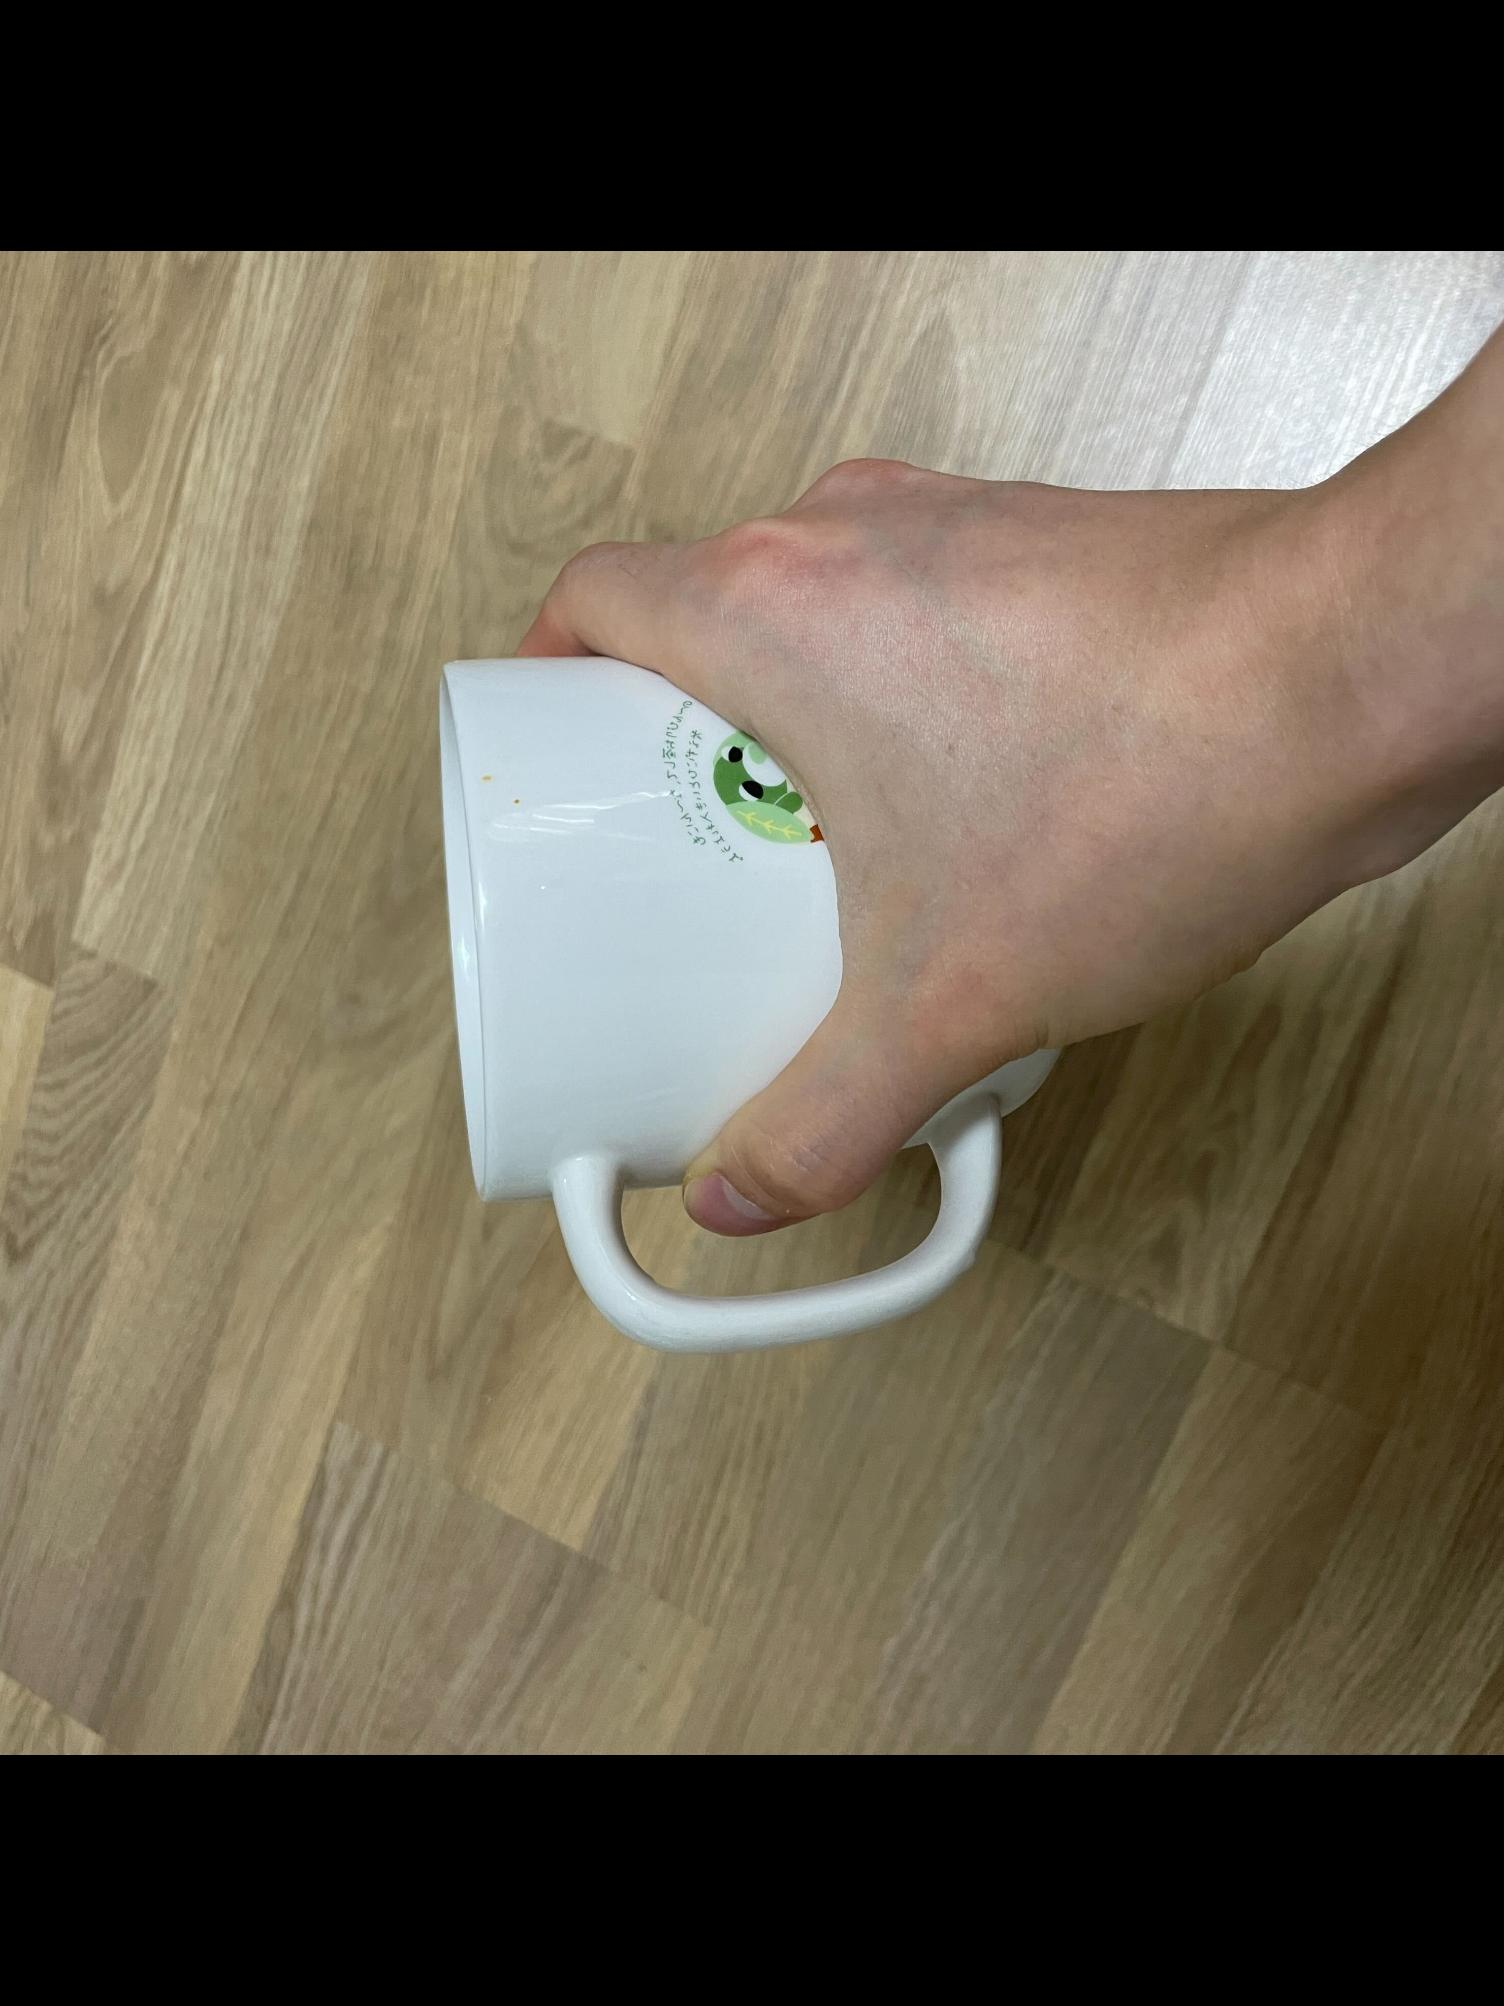cup: (420, 433, 1504, 1363)
